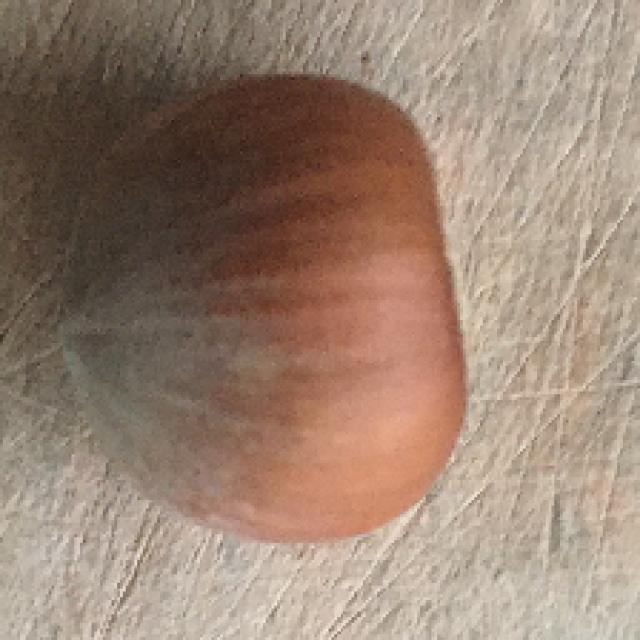qualityHazelnut: (72, 82, 464, 545)
